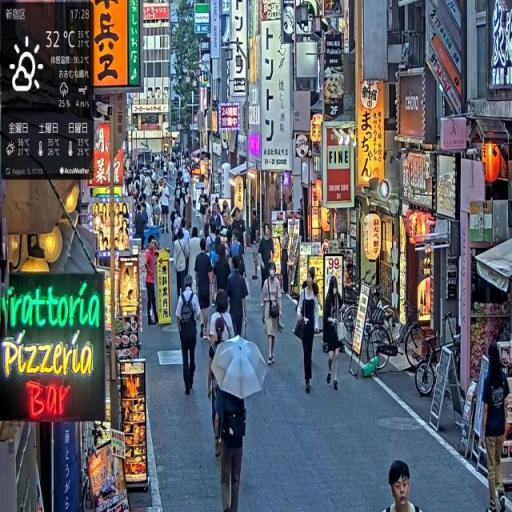person: (481, 341, 512, 512), (176, 277, 204, 404), (218, 395, 247, 512), (295, 268, 321, 396), (323, 273, 346, 392), (263, 264, 284, 367), (227, 255, 250, 342), (196, 240, 215, 344), (387, 459, 424, 512), (259, 224, 278, 304), (144, 237, 160, 328), (174, 229, 190, 300), (188, 227, 203, 301)
